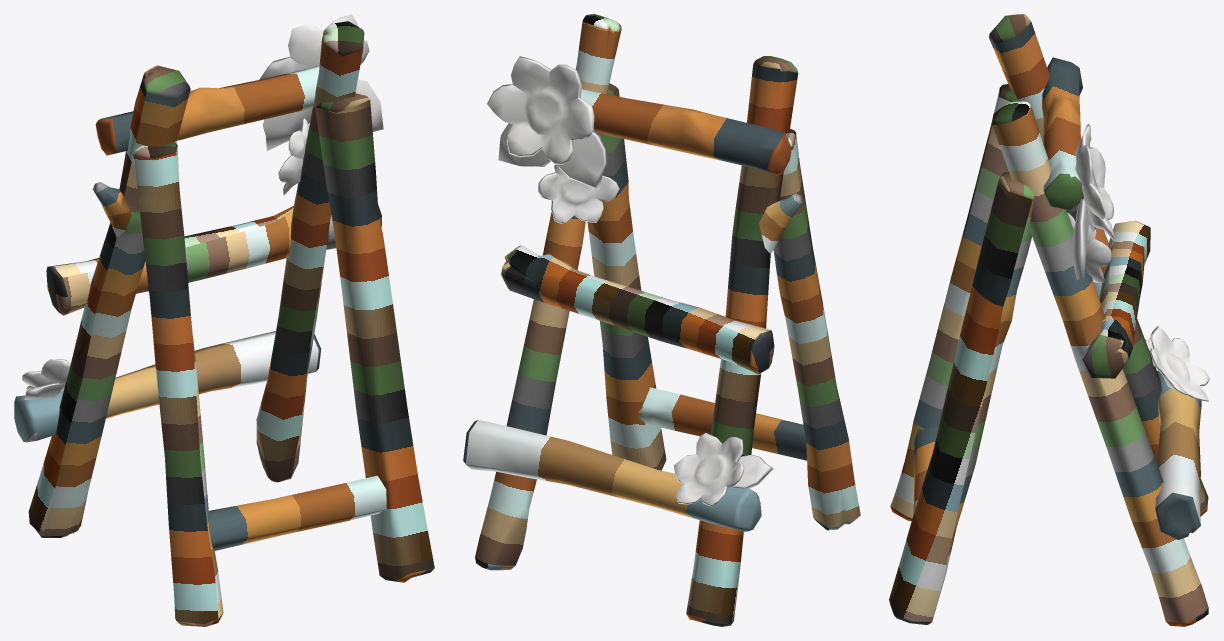
Rendered from P_SunflowerLadder.glb.
3 views of the same model, side by side, from view 1: azimuth 30°, elevation 25°; view 2: azimuth 150°, elevation 25°; view 3: azimuth 270°, elevation 25° (orthographic). The views are drawn at different scales.
Parts seen in each view (by area): view 1: P_SunflowerLadder; view 2: P_SunflowerLadder; view 3: P_SunflowerLadder.
Boxes of the visible parts, x1=… form: P_SunflowerLadder: x1=14, y1=14, x2=434, y2=626; P_SunflowerLadder: x1=463, y1=14, x2=860, y2=626; P_SunflowerLadder: x1=889, y1=14, x2=1209, y2=626.
Bounding box in the file's own units: 0.7443 × 1.15 × 0.6551.
1 material, 1 textured.
